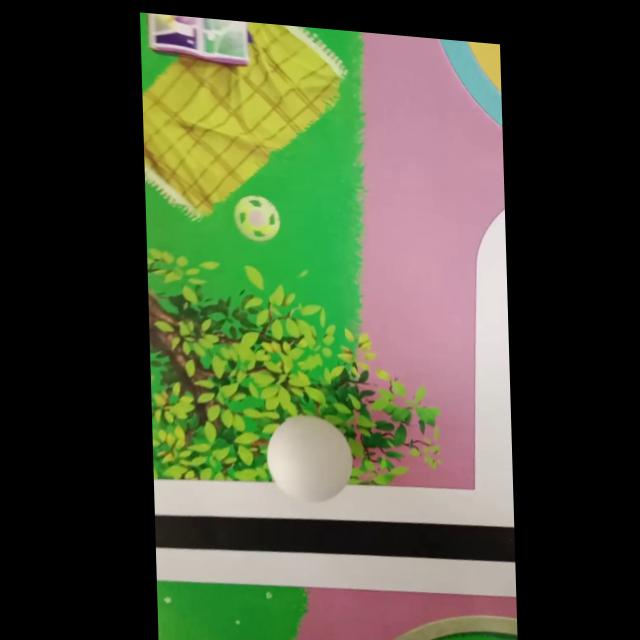white ball: (264, 409, 354, 505)
